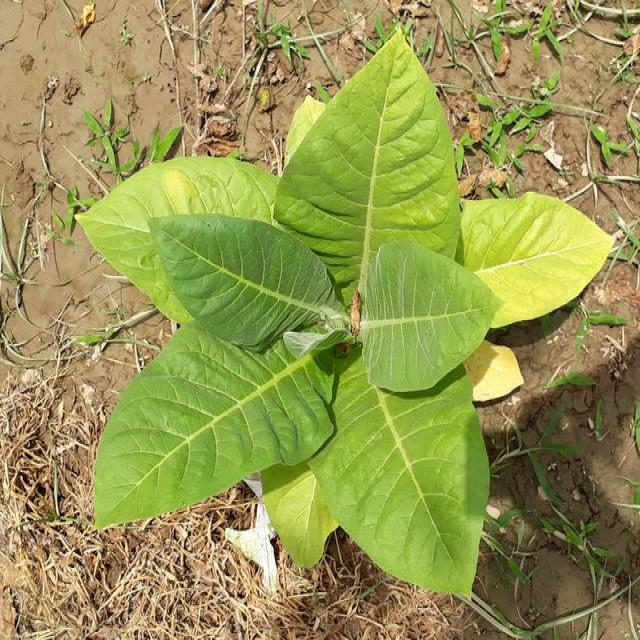crop: (74, 27, 620, 605)
